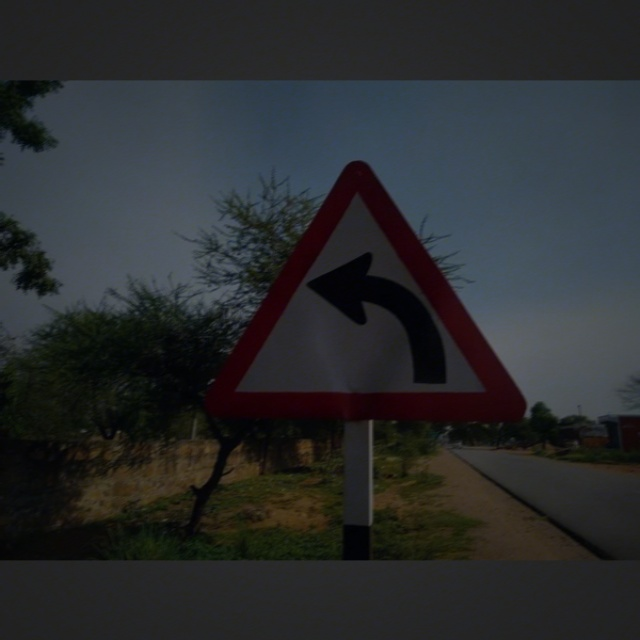Left_Hand_Curve: (226, 162, 525, 423)
